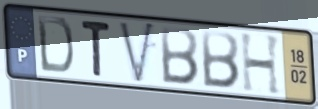B: (200, 28, 241, 92), (159, 24, 200, 88)
D: (35, 13, 76, 77)
H: (238, 31, 283, 98)
T: (79, 18, 113, 80)
V: (116, 19, 157, 88)
